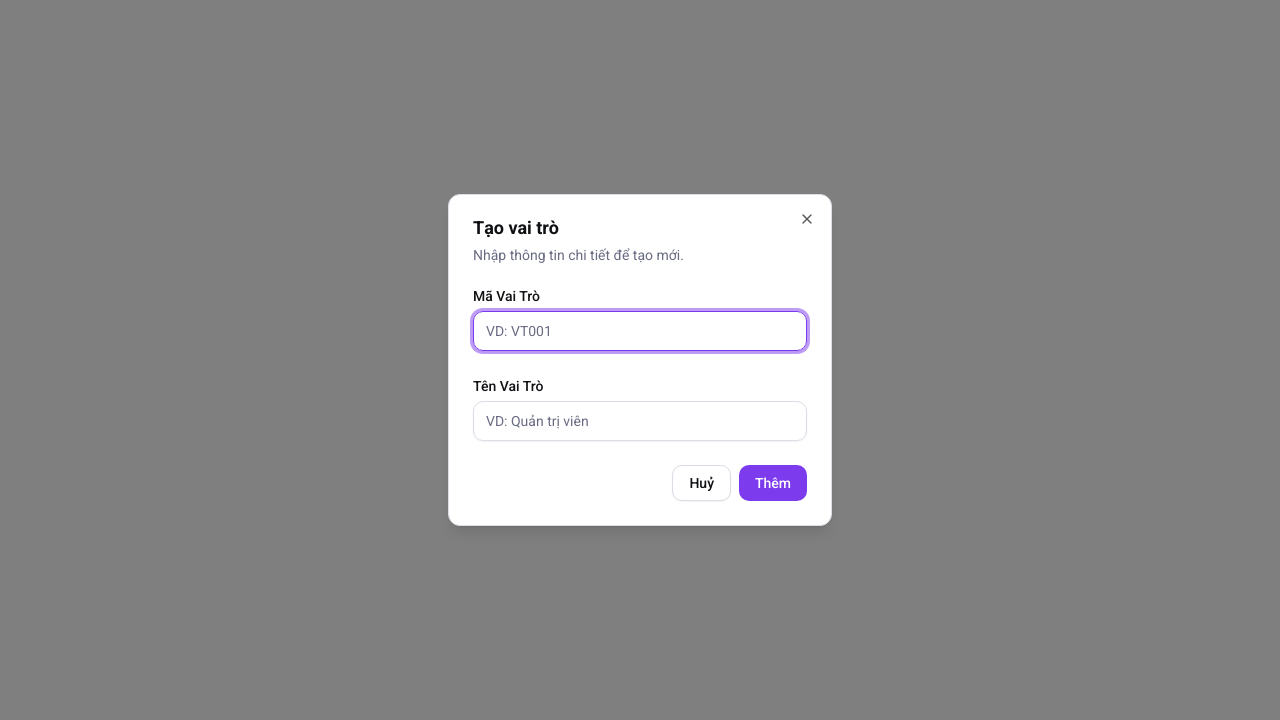
CreateRoleDialog › shows validation error for short TenVaiTro
Type "VT001" into the field labelled "Mã Vai Trò" at (640, 331), box top-left (473, 311), bottom-right (807, 351)
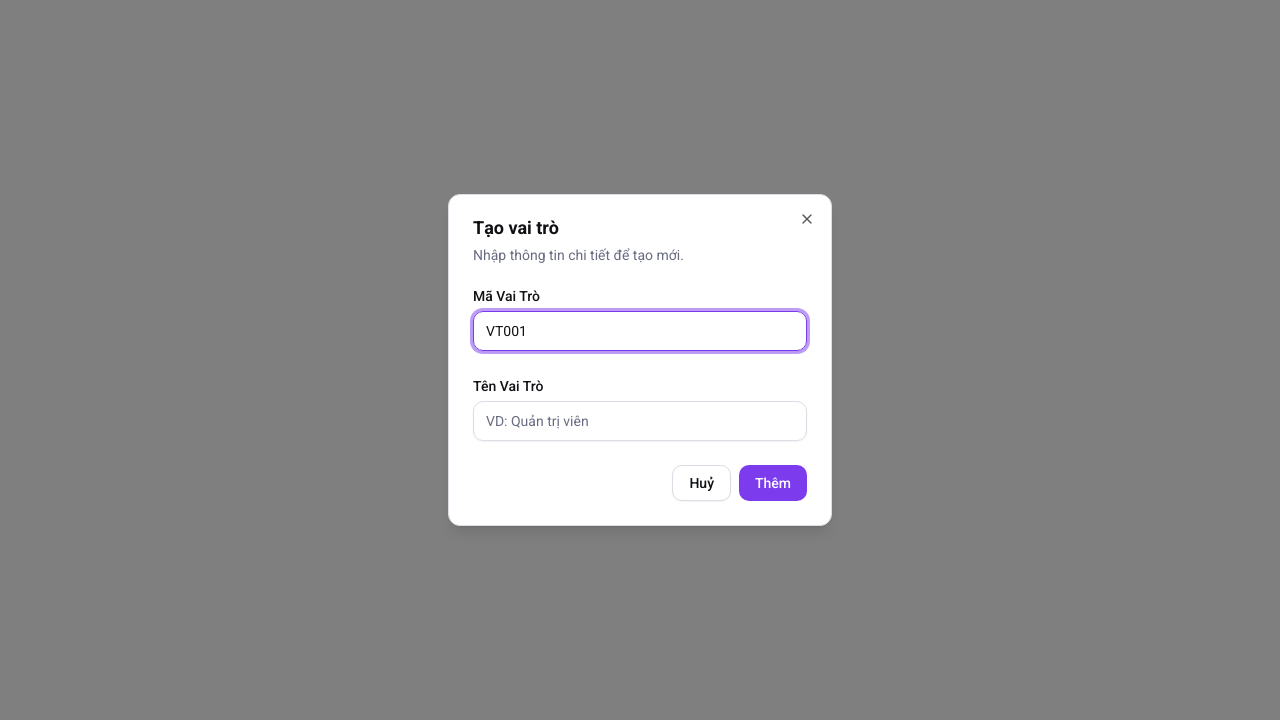
Type "AB" into the field labelled "Tên Vai Trò" at (640, 421), box top-left (473, 401), bottom-right (807, 441)
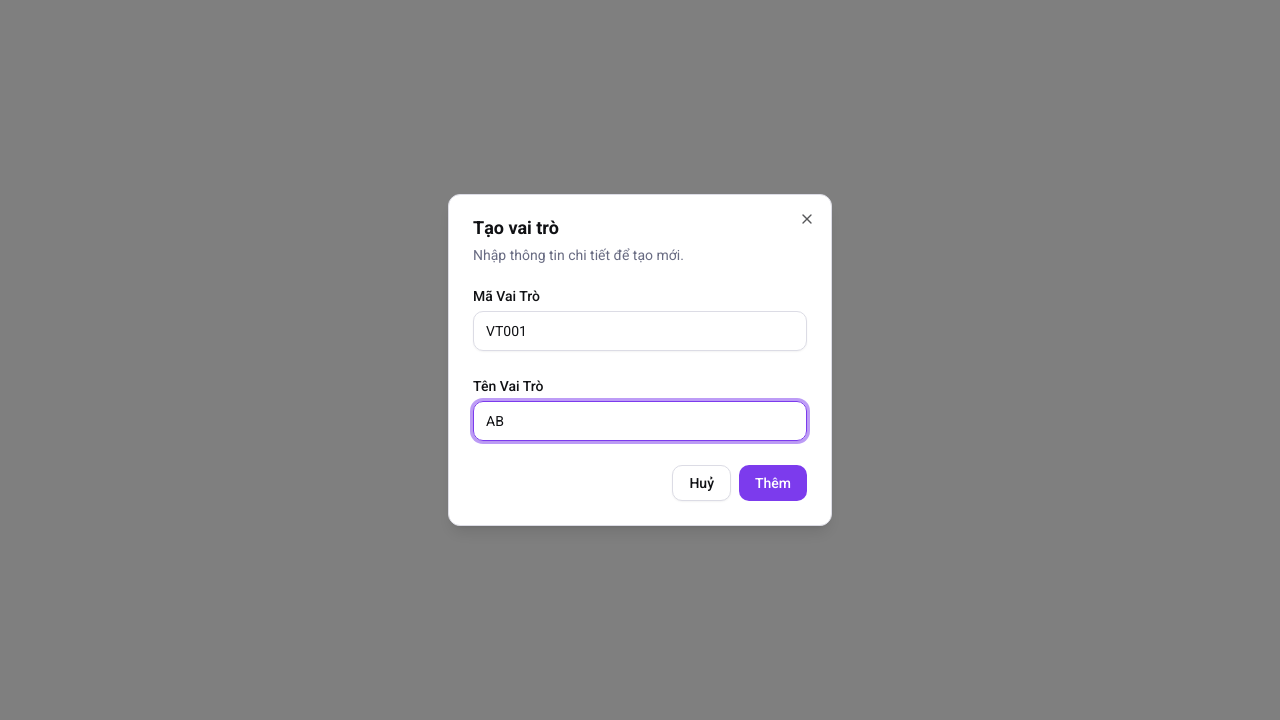
Submit the form, box top-left (473, 219), bottom-right (807, 501)
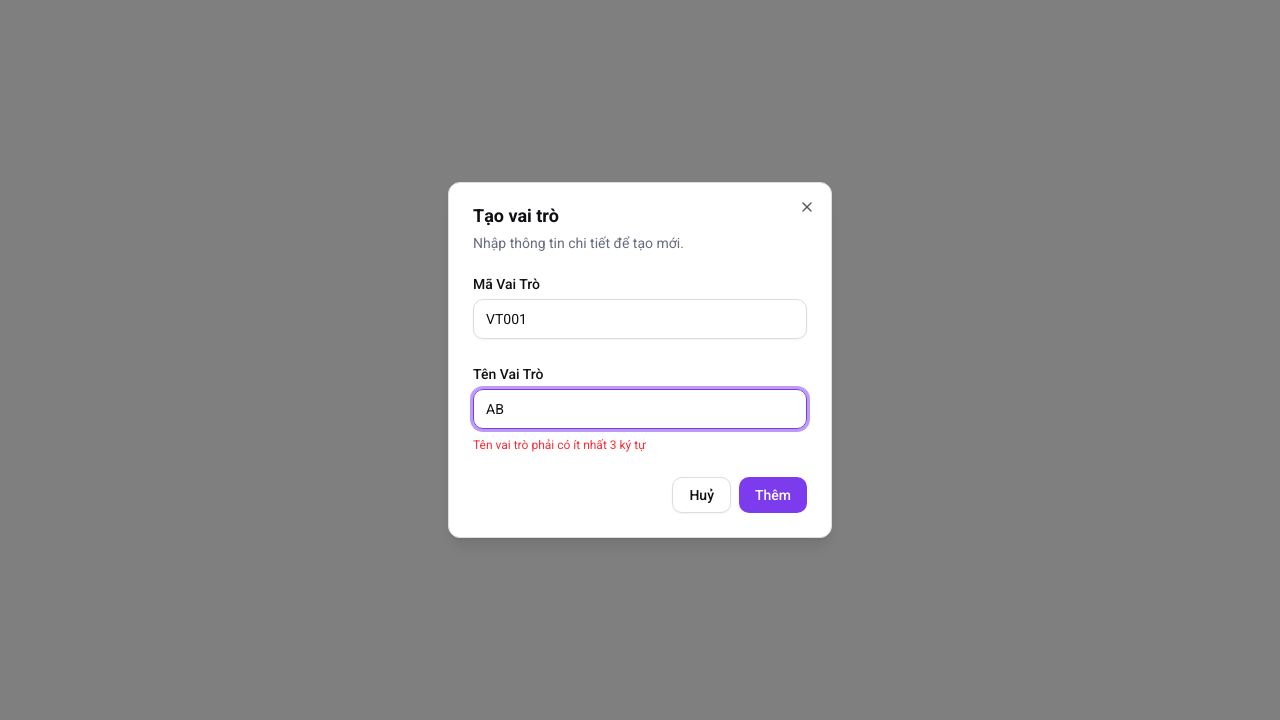
Expected: the text "Tên vai trò phải có ít nhất 3 ký tự" is shown, top-left (473, 438), bottom-right (646, 452)
